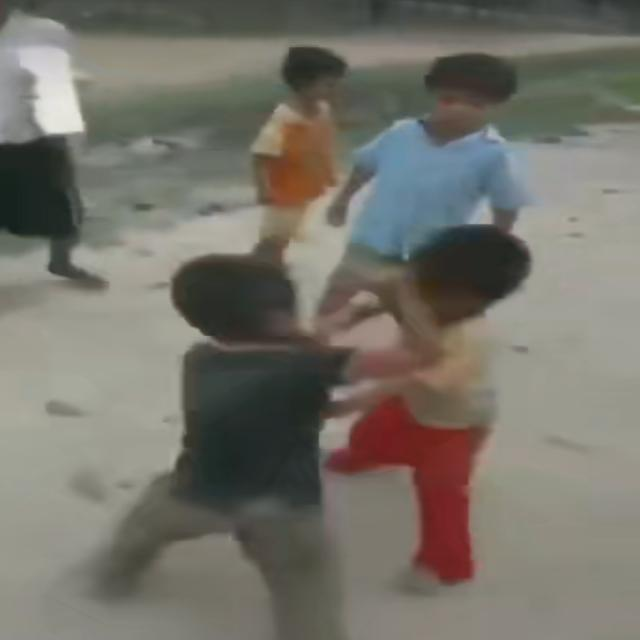fight: (157, 230, 542, 455)
nofight: (372, 40, 533, 290), (208, 25, 347, 255)
